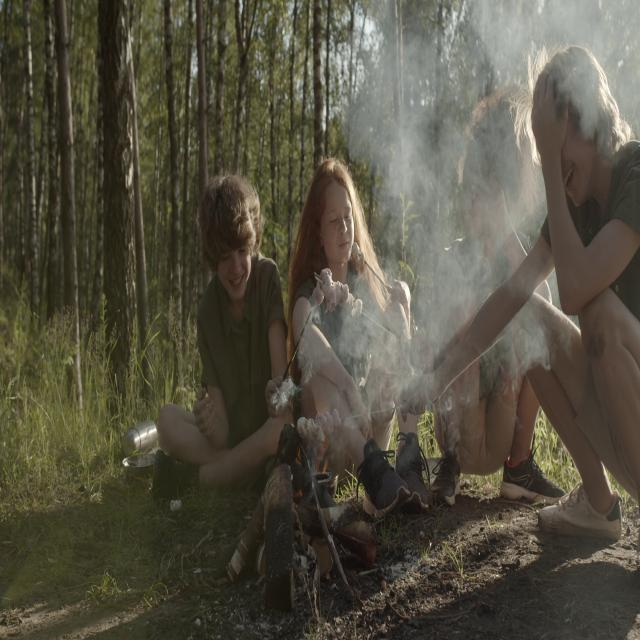Smoke: (331, 0, 543, 472), (551, 0, 640, 138)
